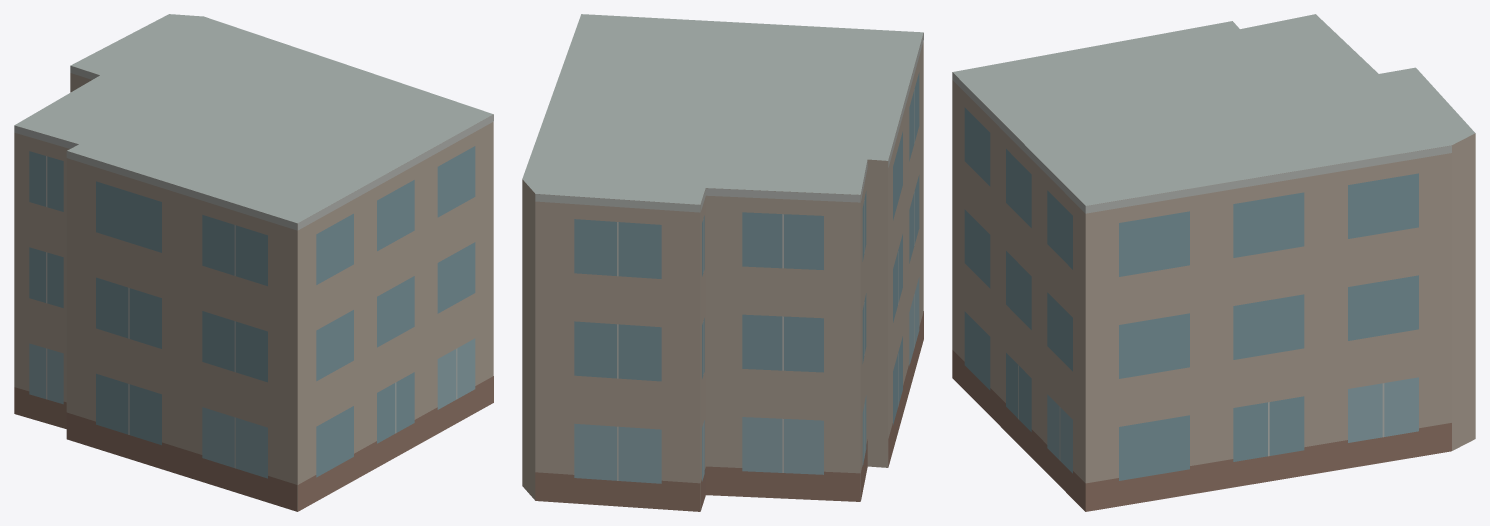
The model's file is survey-upis-32917690.glb.
3 views of the same model, side by side, from view 1: azimuth 30°, elevation 25°; view 2: azimuth 150°, elevation 25°; view 3: azimuth 270°, elevation 25° (orthographic). The views are drawn at different scales.
Parts seen in each view (by area): view 1: survey-upis-32917690.tmp; view 2: survey-upis-32917690.tmp; view 3: survey-upis-32917690.tmp.
Part boxes in pixels (box(x1,y1,x2,y2)): survey-upis-32917690.tmp: box(14, 14, 493, 511); survey-upis-32917690.tmp: box(522, 14, 923, 511); survey-upis-32917690.tmp: box(952, 14, 1475, 511).
Bounding box in the file's own units: 13.06 × 9.7 × 15.05.
